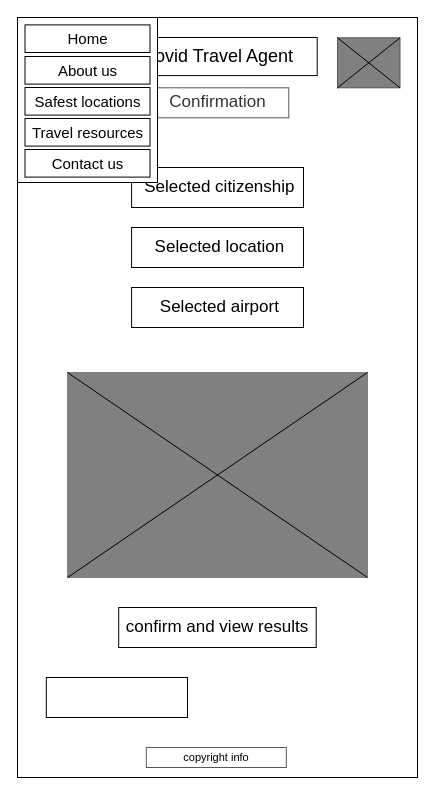
Some shapes in this 435 by 795 pixel diagram are drawn without their labels. Grey dashed boxes stand in for pictures. Each missing label, with the centre of its shape:
"logo" goes at (x=368, y=62).
"map shows selected location" goes at (x=217, y=475).
"return to calculator" goes at (x=116, y=697).
